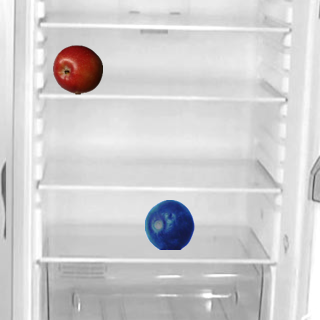Apple Braeburn: (52, 44, 102, 94)
Huckleberry: (144, 199, 194, 249)
